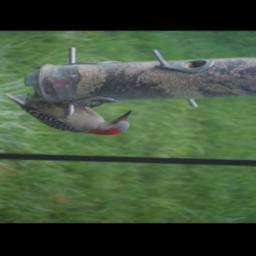Woodpecker: (2, 91, 133, 135)
